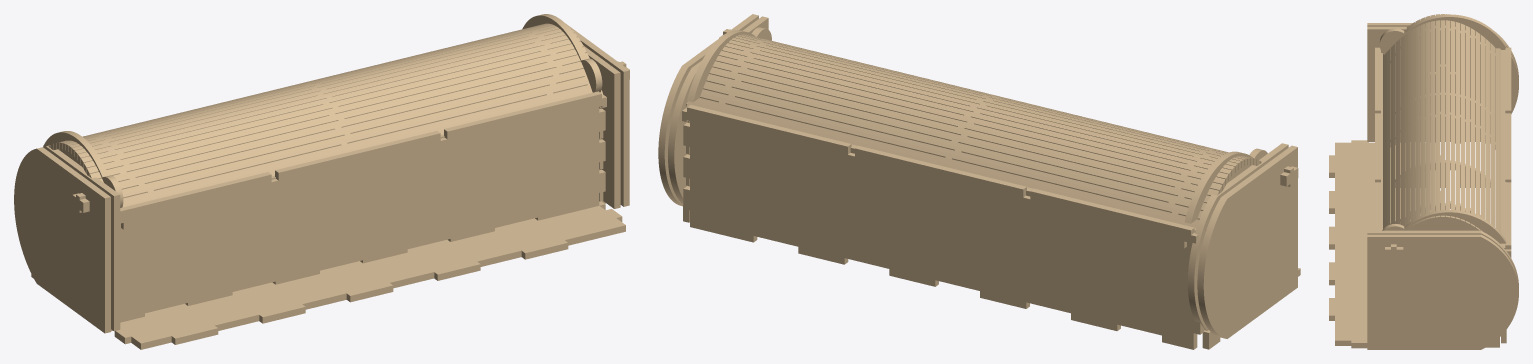
Rendered from meb033-assembly-preview.glb.
3 renders of one model, left to right at view 1: azimuth 30°, elevation 25°; view 2: azimuth 150°, elevation 25°; view 3: azimuth 270°, elevation 25°, orthographic. The views are drawn at different scales.
Visible parts, largest first — view 1: BODY_BACK, LID_SKIN_RADIAL_4MM, BODY_FLOOR, OUTER_FASCIA_L, LID_BACK_RAIL, FASCIA_HIDDEN_BACKER_R, FASCIA_HIDDEN_BACKER_L, OUTER_FASCIA_R, LID_END_R, LID_END_L; view 2: BODY_FRONT, LID_SKIN_RADIAL_4MM, OUTER_FASCIA_L, LID_FRONT_RAIL, FASCIA_HIDDEN_BACKER_L, FASCIA_HIDDEN_BACKER_R, OUTER_FASCIA_R, LID_END_L, LID_END_R; view 3: LID_SKIN_RADIAL_4MM, OUTER_FASCIA_R, BODY_FLOOR, FASCIA_HIDDEN_BACKER_L, LID_END_L, LID_FRONT_RAIL, LID_END_R, LID_BACK_RAIL, BODY_FRONT, FASCIA_HIDDEN_BACKER_R, LID_CROSS_RIB_2, BODY_BACK (+3 smaller).
Part boxes in pixels (box(x1,y1,x2,y2)): BODY_BACK: box(120, 107, 605, 322); LID_SKIN_RADIAL_4MM: box(48, 23, 602, 207); BODY_FLOOR: box(111, 201, 625, 349); OUTER_FASCIA_L: box(14, 147, 110, 333); LID_BACK_RAIL: box(120, 91, 606, 229); FASCIA_HIDDEN_BACKER_R: box(583, 45, 620, 208); FASCIA_HIDDEN_BACKER_L: box(43, 145, 120, 331); OUTER_FASCIA_R: box(565, 23, 629, 206); LID_END_R: box(522, 14, 602, 92); LID_END_L: box(43, 131, 123, 207); BODY_FRONT: box(683, 121, 1203, 349); LID_SKIN_RADIAL_4MM: box(686, 34, 1261, 228); OUTER_FASCIA_L: box(1197, 145, 1297, 338); LID_FRONT_RAIL: box(682, 105, 1198, 248); FASCIA_HIDDEN_BACKER_L: box(1188, 143, 1288, 330); FASCIA_HIDDEN_BACKER_R: box(668, 16, 768, 203); OUTER_FASCIA_R: box(658, 14, 758, 206); LID_END_L: box(1184, 148, 1267, 223); LID_END_R: box(687, 27, 771, 102); LID_SKIN_RADIAL_4MM: box(1383, 14, 1500, 244); OUTER_FASCIA_R: box(1367, 234, 1518, 349); BODY_FLOOR: box(1329, 140, 1440, 348); FASCIA_HIDDEN_BACKER_L: box(1367, 26, 1518, 141); LID_END_L: box(1379, 14, 1506, 58); LID_FRONT_RAIL: box(1505, 47, 1511, 257); LID_END_R: box(1382, 210, 1506, 243); LID_BACK_RAIL: box(1375, 47, 1380, 230); BODY_FRONT: box(1501, 50, 1506, 343); FASCIA_HIDDEN_BACKER_R: box(1367, 230, 1518, 286); LID_CROSS_RIB_2: box(1395, 160, 1490, 187); BODY_BACK: box(1381, 53, 1382, 230).
Size of the model in its own units: 0.356 by 0.1004 by 0.1282.
